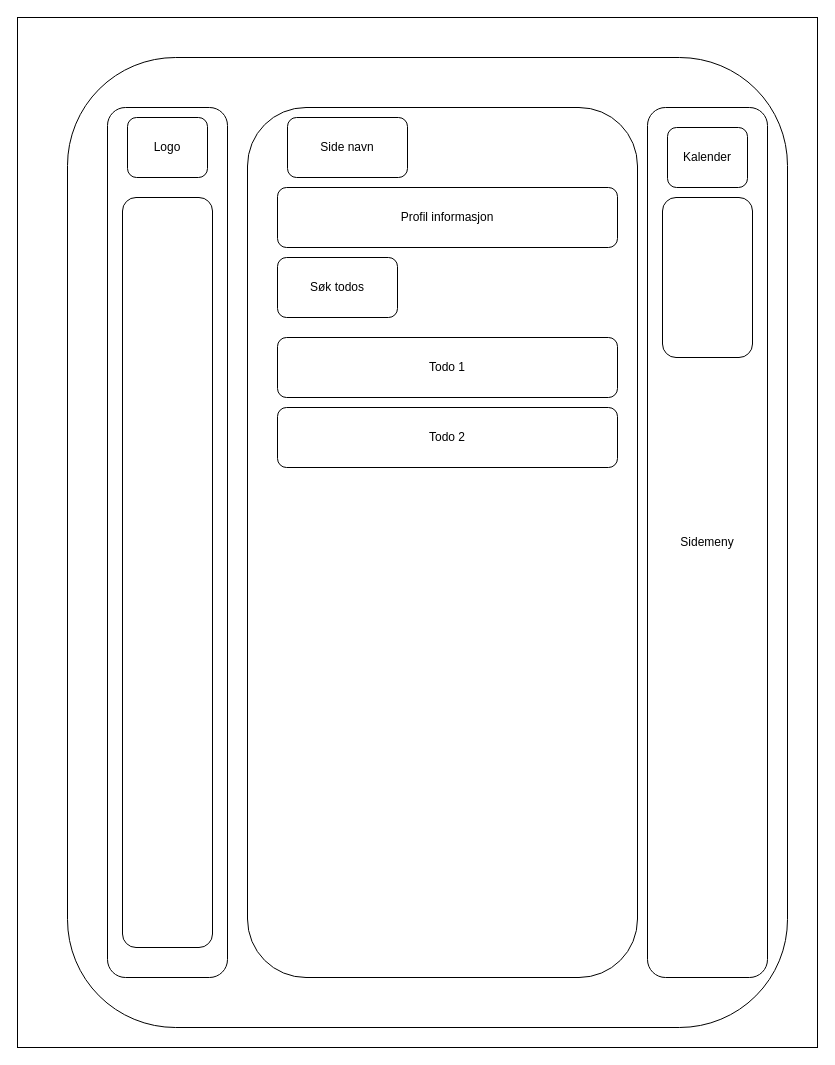
Some shapes in this 835 by 1065 pixel diagram are drawn without their labels. The shapes that lost their labels are listed below. From the top down, each one's box as (x1, y1, x2, y2) in pixels, then its label:
(662, 196, 752, 358): Kalendertillegg
(246, 106, 638, 978): Hoved innhold
(122, 196, 212, 948): Valgmuligheter
